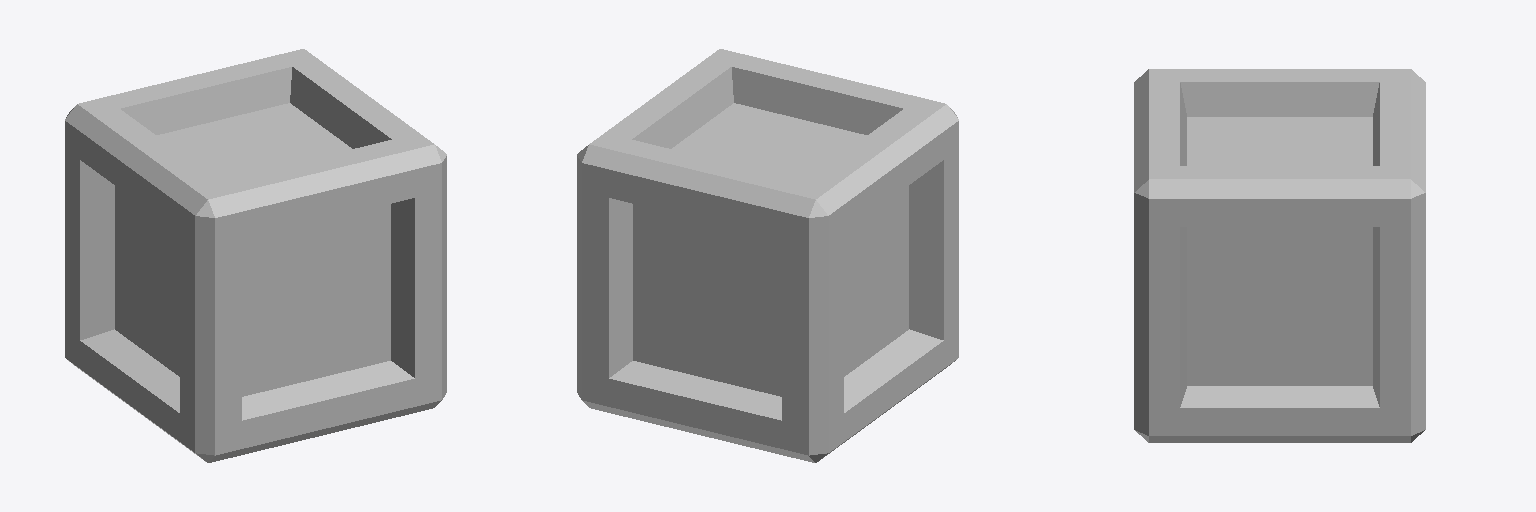
File: box_large.obj
3 views of the same model, side by side, from view 1: azimuth 30°, elevation 25°; view 2: azimuth 150°, elevation 25°; view 3: azimuth 270°, elevation 25° (orthographic).
Visible parts, largest first — view 1: box_large; view 2: box_large; view 3: box_large.
Part boxes in pixels (left/top/right/bottom): box_large: left=65, top=49, right=446, bottom=462; box_large: left=577, top=49, right=958, bottom=462; box_large: left=1134, top=69, right=1425, bottom=442.
Bounding box in the file's own units: 1.5 × 1.5 × 1.5.